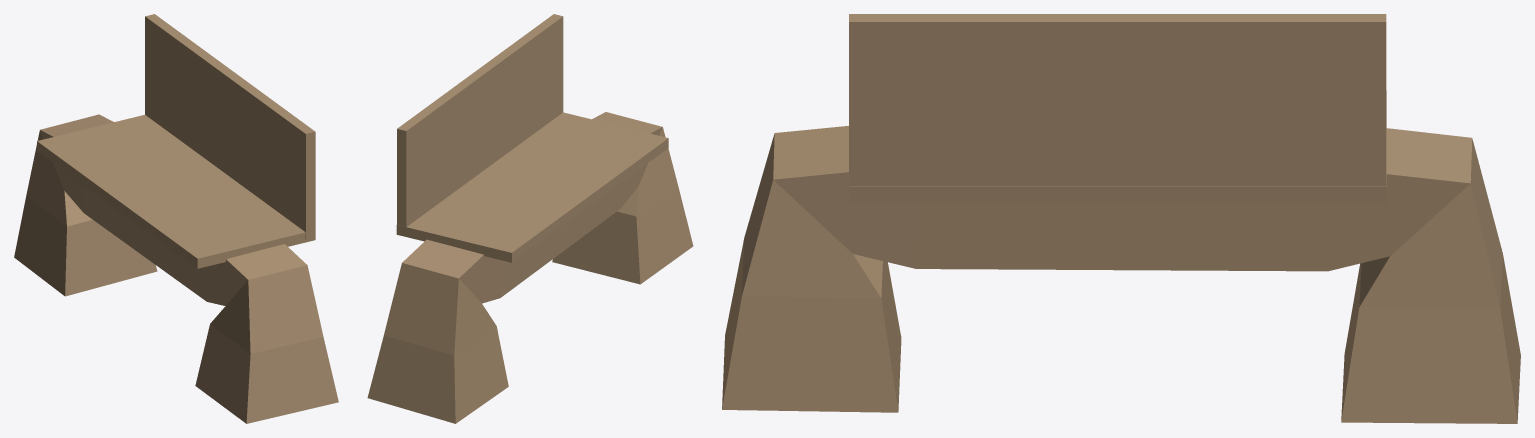
The model's file is Bench.fbx.
3 renders of one model, left to right at view 1: azimuth 30°, elevation 25°; view 2: azimuth 150°, elevation 25°; view 3: azimuth 270°, elevation 25°, orthographic. The views are drawn at different scales.
Visible parts, largest first — view 1: Cube.005; view 2: Cube.005; view 3: Cube.005.
Part boxes in pixels (x1,y1,x2,y2): Cube.005: (14,14,338,423); Cube.005: (367,14,693,423); Cube.005: (722,14,1520,423).
Bounding box in the file's own units: 1131 × 2275 × 3967.
